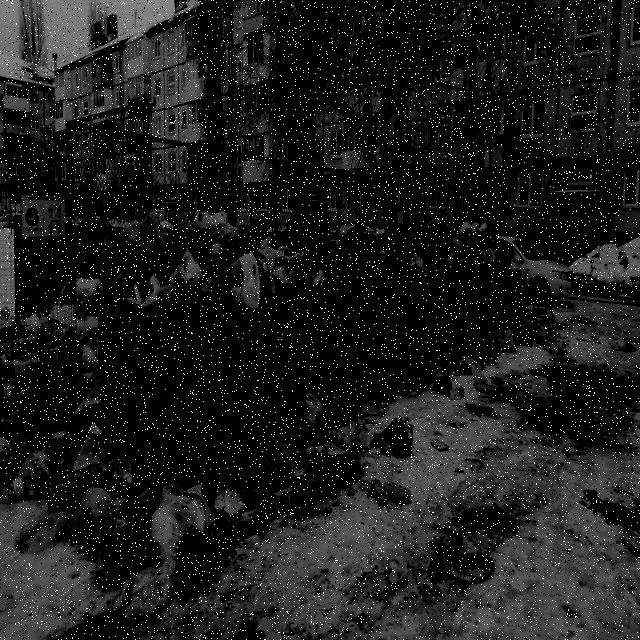Trashcan: (79, 172, 285, 472), (259, 216, 358, 434), (336, 217, 404, 416), (387, 213, 450, 380), (433, 202, 481, 357), (466, 211, 516, 348)
